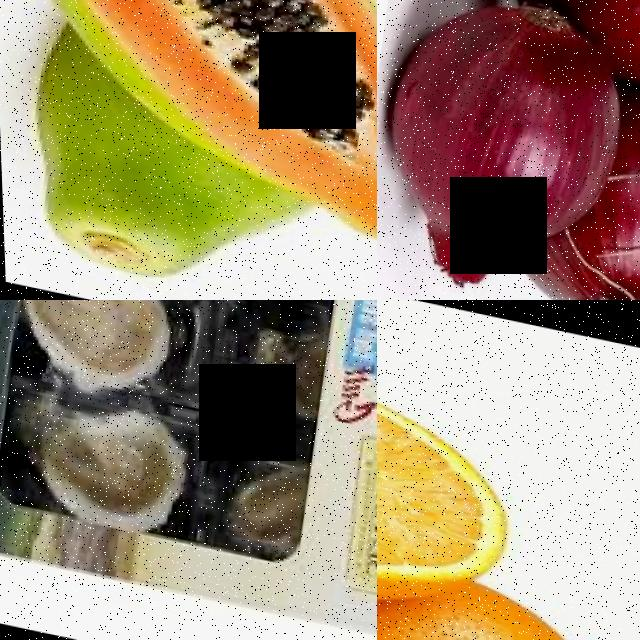onion: (377, 0, 635, 268), (571, 70, 640, 300)
orange: (377, 336, 535, 607)
oysters: (8, 383, 205, 547), (0, 300, 186, 402)
pawpaw: (0, 0, 377, 242)
